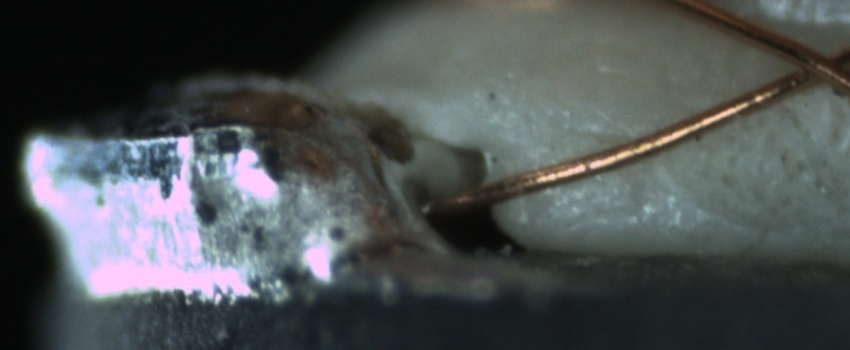CL: (774, 35, 850, 94)
DL: (532, 111, 658, 163)
